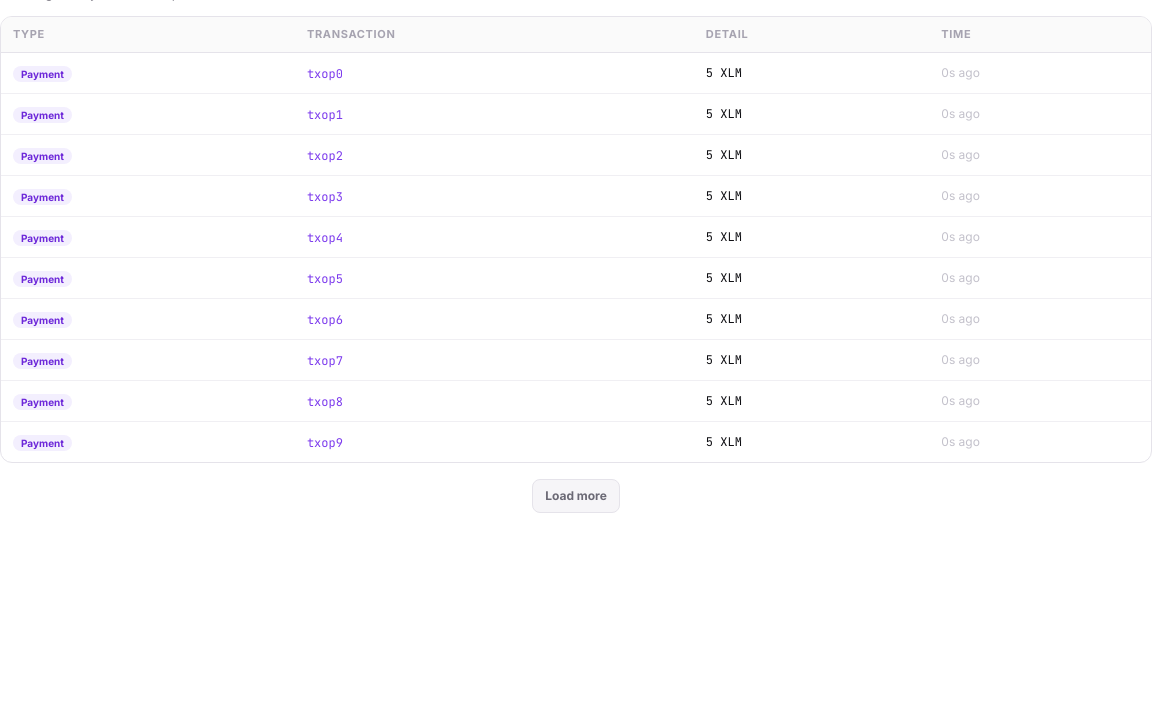
Test: AccountOperationList › follows the cursor, accumulating pages without duplicating the seed
Step 1. Click the button "Load more" → (576, 496), box [532,479,620,513]
(page scrolled)
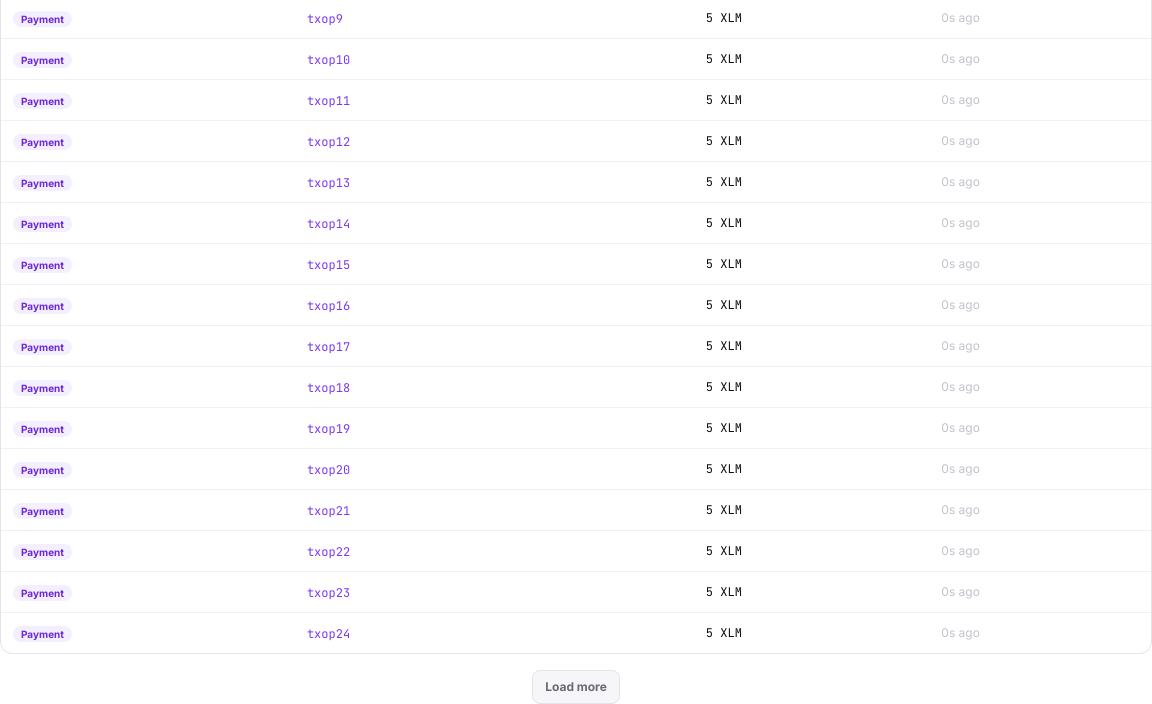
Step 2. Click the button "Load more" → (576, 687), box [532,670,620,703]
(page scrolled)
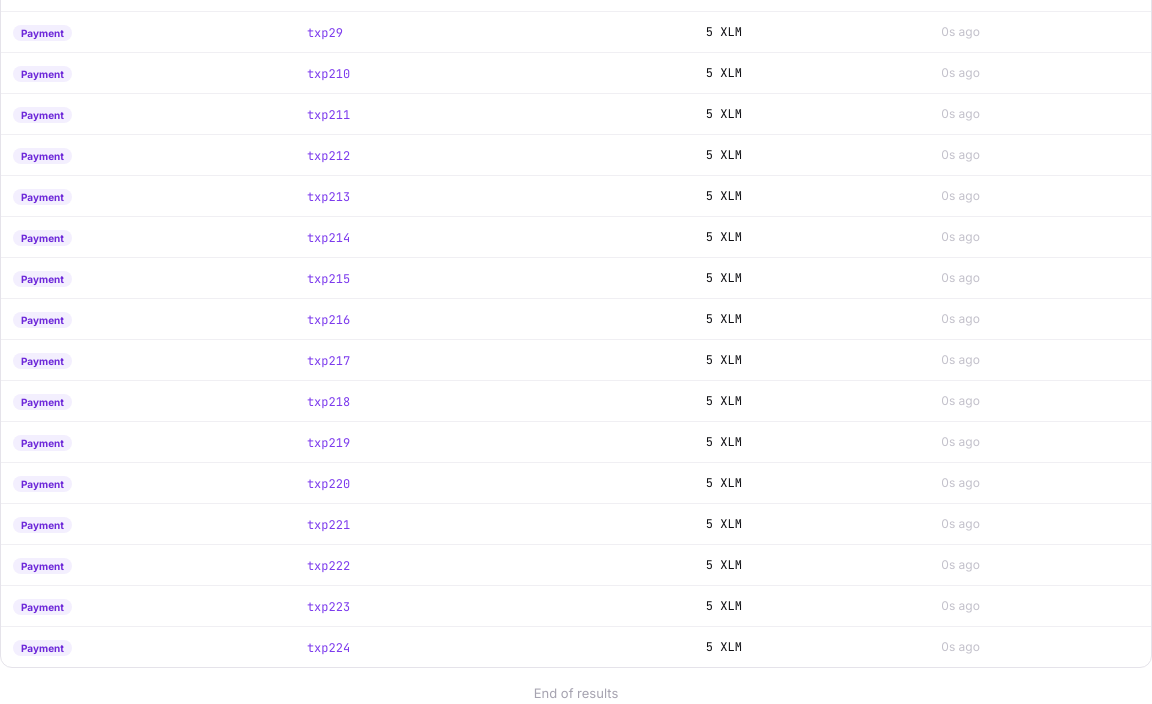
Expected: the text "End of results" is shown, [534,685,618,701]
